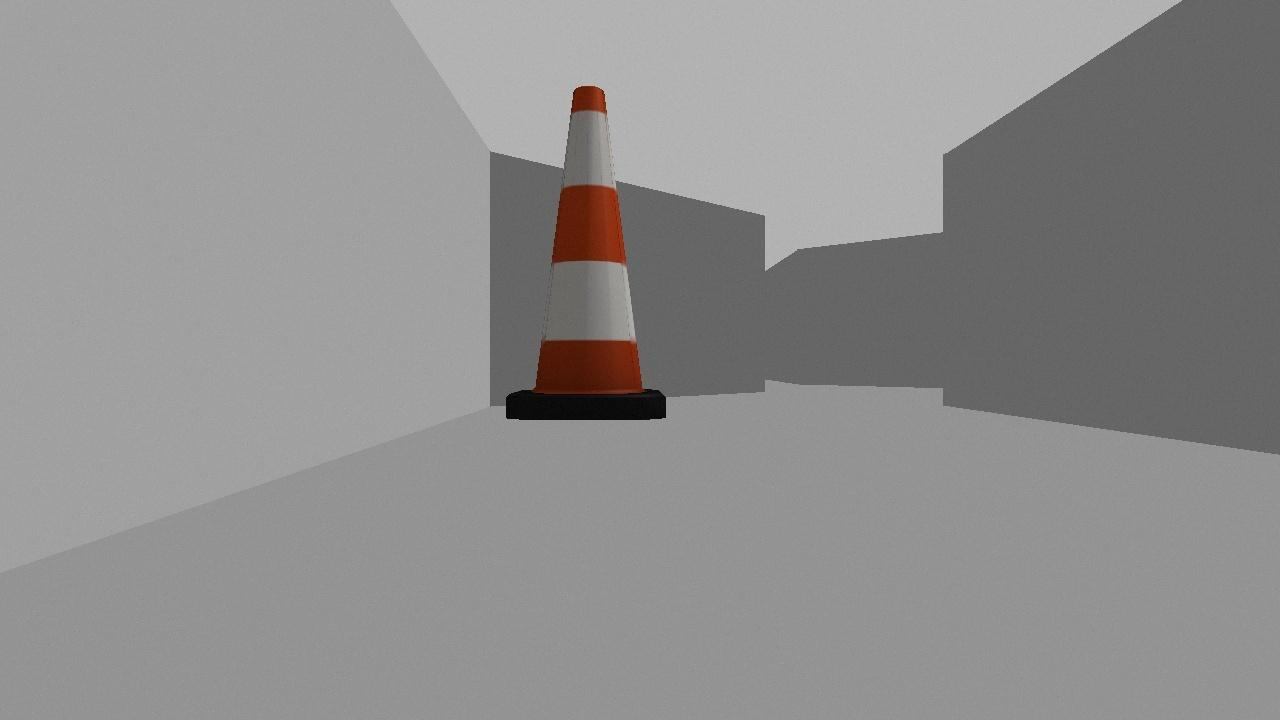cone_barrel: (503, 84, 666, 420)
